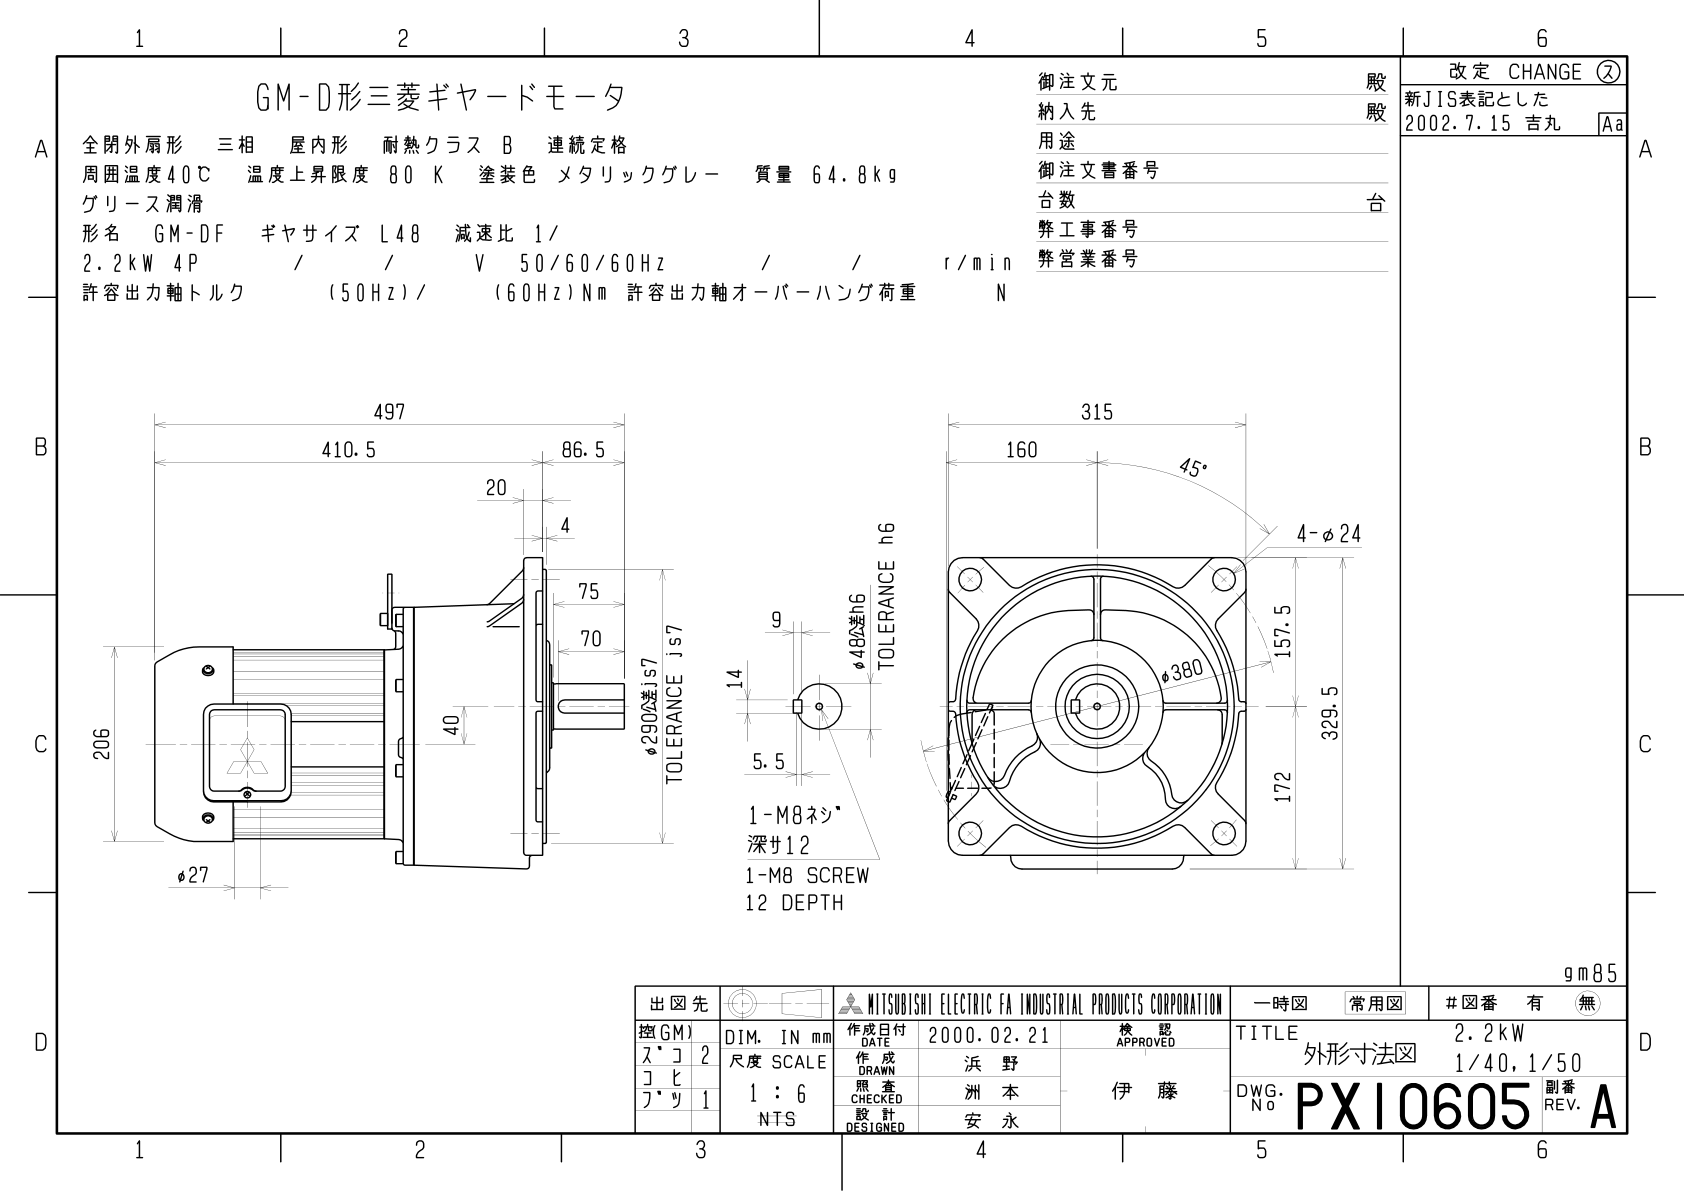GM_D_屋内＿三相_フランジ: (75, 339, 1389, 941)
